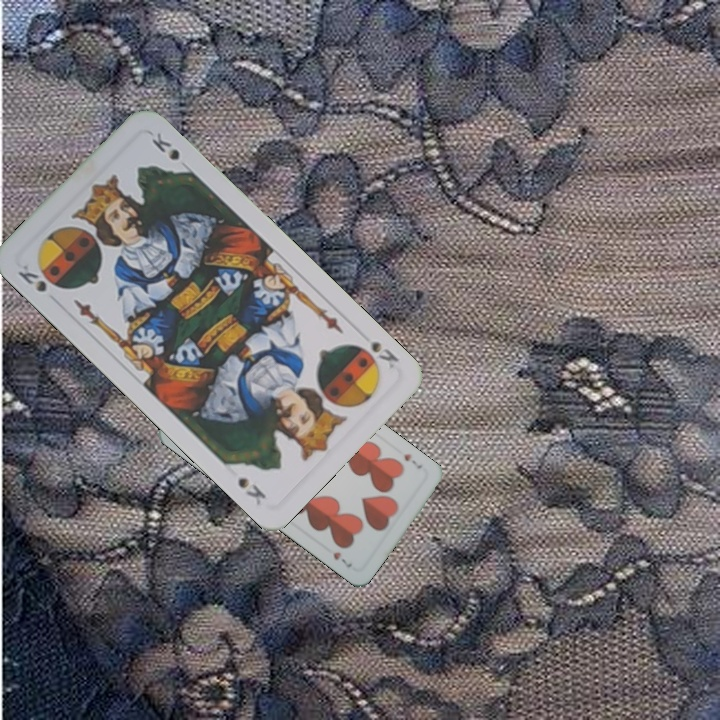H7: (400, 450, 425, 472)
SK: (13, 260, 49, 295), (366, 336, 402, 371)
